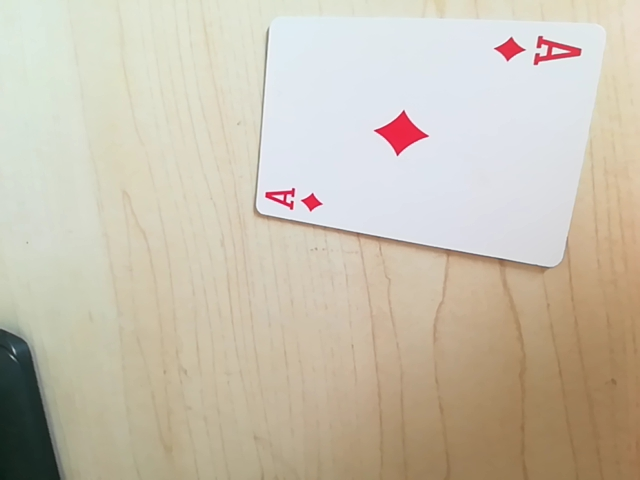fk a: (493, 26, 589, 73), (259, 182, 326, 219)
